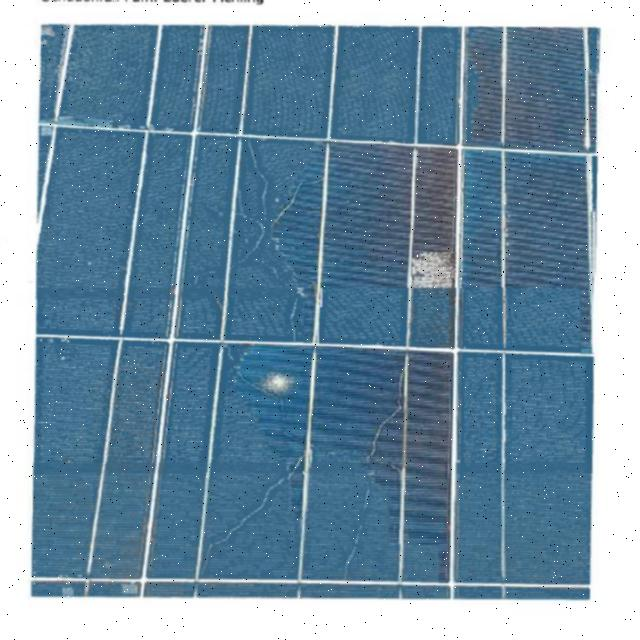electrical damage: (47, 26, 614, 597)
